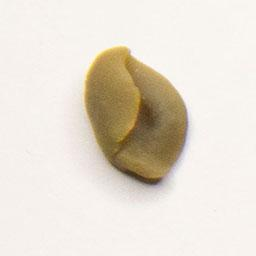defect: (81, 41, 192, 188)
